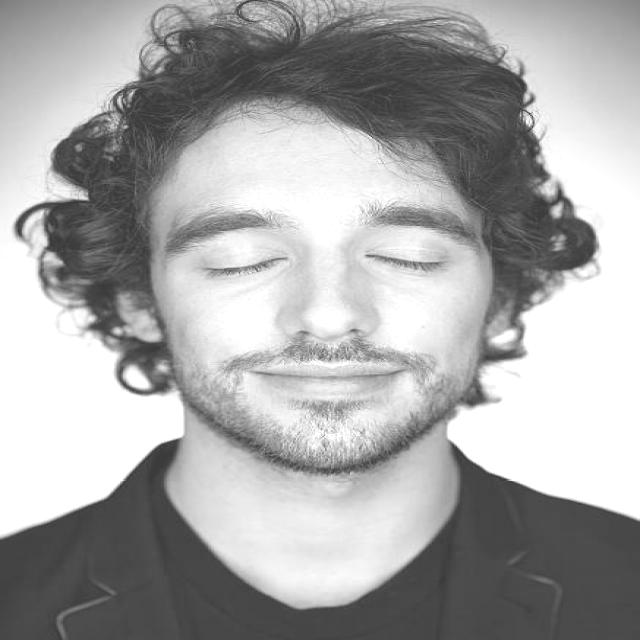real: (117, 51, 515, 480), (155, 193, 496, 286)
